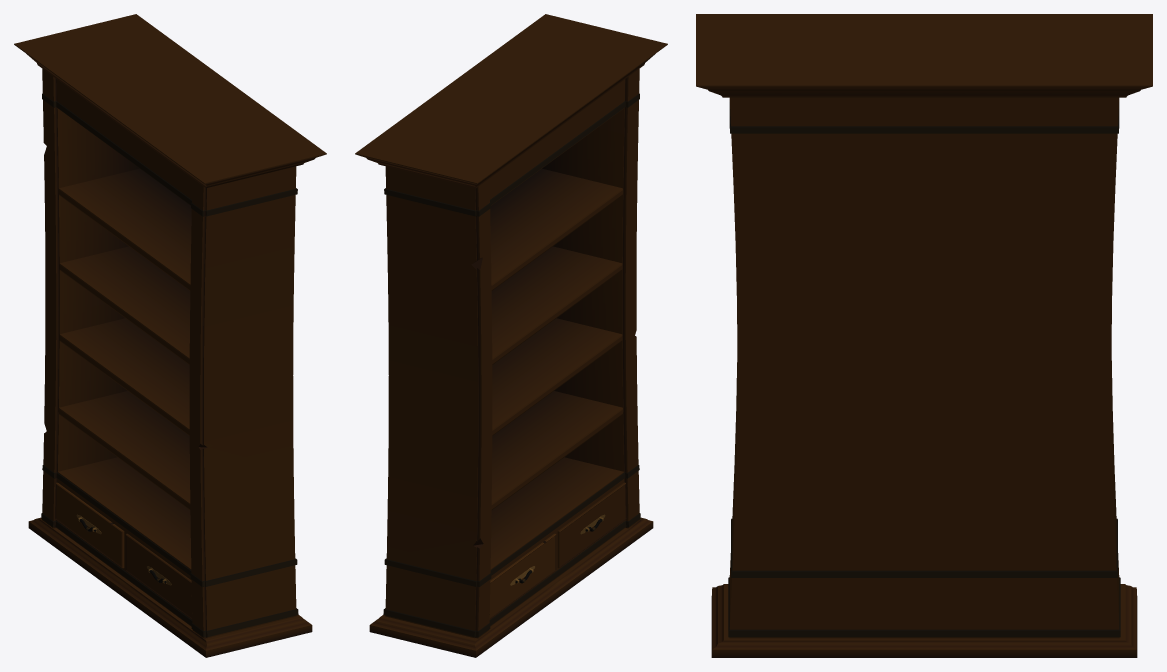
File: SM_Bookshelf_1.fbx
3 views of the same model, side by side, from view 1: azimuth 30°, elevation 25°; view 2: azimuth 150°, elevation 25°; view 3: azimuth 270°, elevation 25° (orthographic). The views are drawn at different scales.
Visible parts, largest first — view 1: Bookcase, Drawer_Left, Drawer_Right; view 2: Bookcase, Drawer_Right, Drawer_Left; view 3: Bookcase.
Boxes of the visible parts, bbox=[...] form: Bookcase: bbox=[14, 14, 326, 657]; Drawer_Left: bbox=[55, 482, 124, 568]; Drawer_Right: bbox=[125, 533, 192, 618]; Bookcase: bbox=[355, 14, 667, 657]; Drawer_Right: bbox=[557, 482, 626, 568]; Drawer_Left: bbox=[489, 533, 556, 618]; Bookcase: bbox=[696, 14, 1152, 657].
Bounding box in the file's own units: 115 × 433 × 311.
